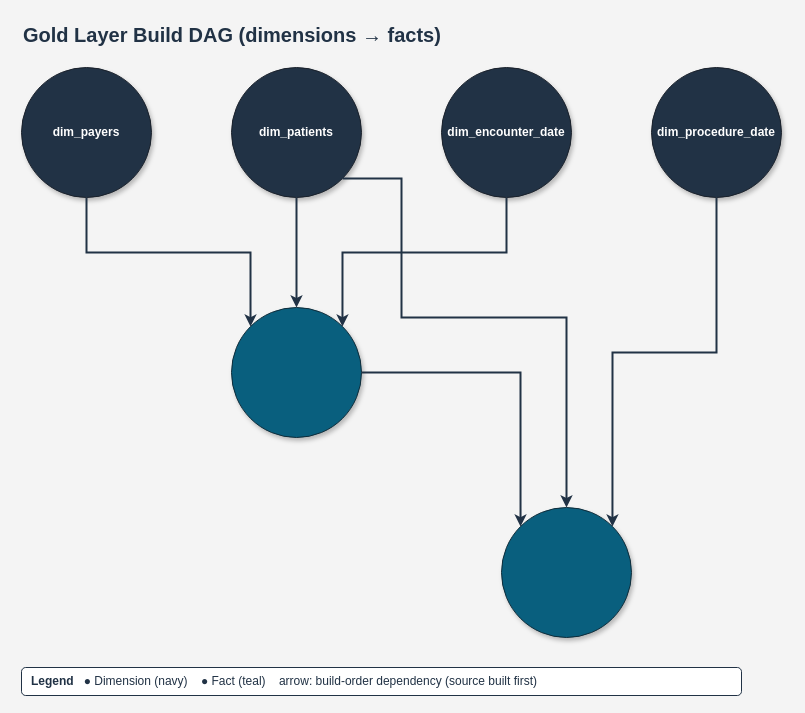
Image size: 805x713. Some labels were removed from this diagram. Each missing label, with the centre of its shape:
"fact_encounters" goes at point 297,373.
"fact_procedures" goes at point 567,573.
